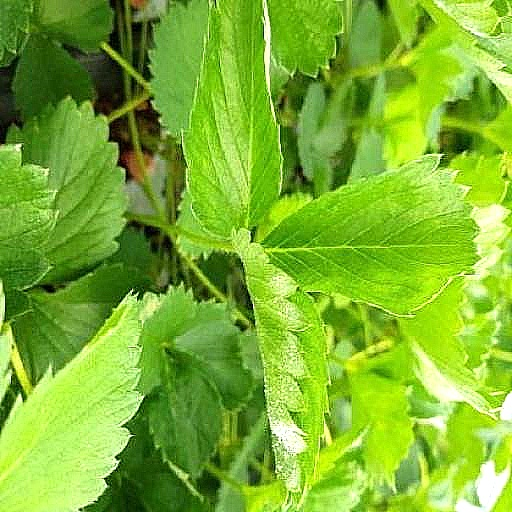Powdery Mildew Leaf: (230, 0, 331, 286)
